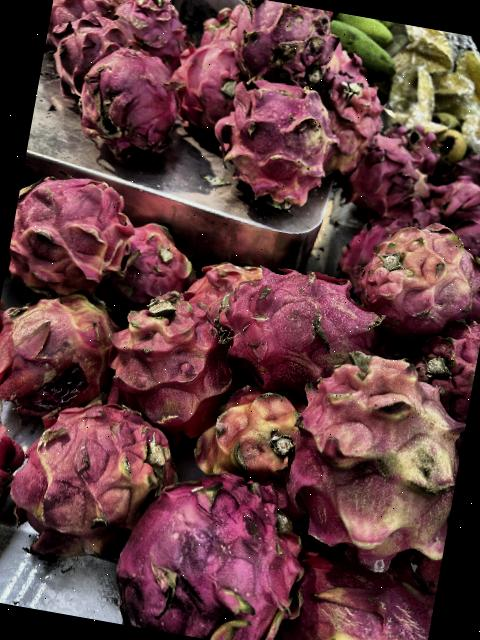buah-naga-belum-matang: (270, 343, 474, 575), (0, 387, 173, 569), (273, 538, 441, 640), (0, 281, 119, 420), (357, 215, 480, 337), (192, 374, 310, 487), (312, 57, 389, 171)
buah-naga-matang: (114, 459, 314, 640), (219, 248, 375, 389), (4, 153, 132, 300), (102, 292, 240, 428), (212, 74, 346, 214), (70, 44, 188, 168), (224, 0, 340, 87), (167, 34, 248, 132), (44, 10, 128, 104), (410, 322, 480, 420), (111, 221, 195, 299), (353, 138, 427, 216), (109, 0, 197, 61), (0, 411, 31, 555), (382, 119, 446, 174), (421, 171, 480, 226), (47, 0, 121, 42), (439, 141, 480, 195), (447, 212, 480, 263)
